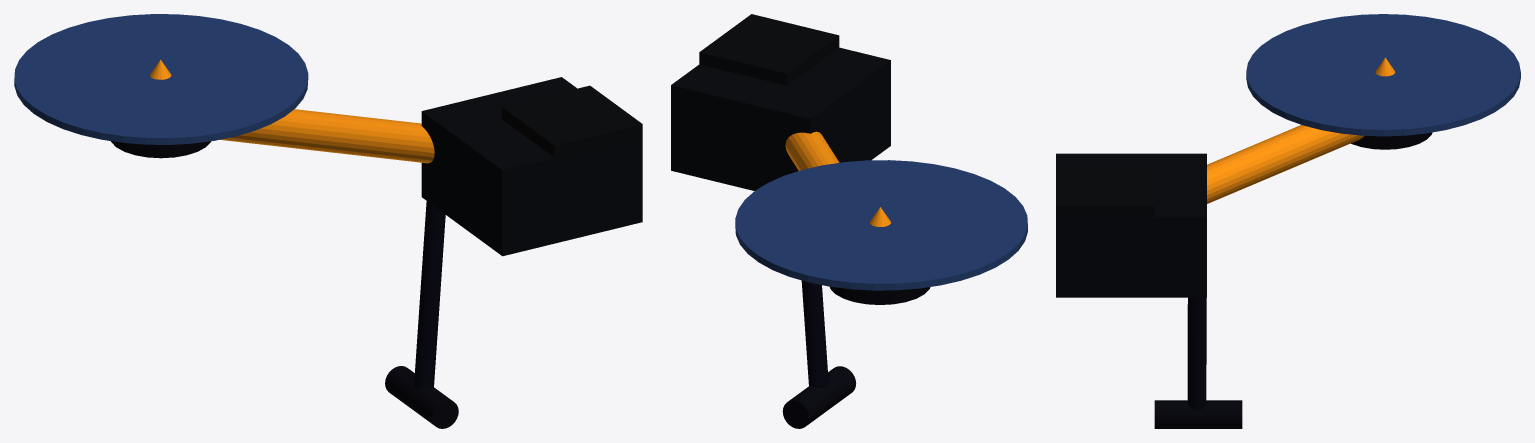
File: quad_quarter.obj
3 views of the same model, side by side, from view 1: azimuth 30°, elevation 25°; view 2: azimuth 150°, elevation 25°; view 3: azimuth 270°, elevation 25° (orthographic). The views are drawn at different scales.
Parts seen in each view (by area): view 1: Prop, Body, Arm, Body_Top, Leg, Foot, Motor; view 2: Prop, Body, Body_Top, Foot, Leg, Arm, Motor; view 3: Prop, Body, Body_Top, Arm, Foot, Leg, Motor.
Part boxes in pixels (x1,y1,x2,y2): Prop: [14, 14, 308, 144]; Body: [421, 77, 642, 256]; Arm: [220, 109, 434, 163]; Body_Top: [502, 85, 642, 160]; Leg: [414, 201, 445, 388]; Foot: [385, 366, 458, 428]; Motor: [111, 141, 210, 158]; Prop: [735, 160, 1027, 290]; Body: [671, 47, 890, 190]; Body_Top: [699, 14, 839, 85]; Foot: [782, 366, 856, 428]; Leg: [801, 280, 828, 387]; Arm: [785, 131, 839, 170]; Motor: [830, 286, 930, 304]; Prop: [1246, 14, 1520, 136]; Body: [1056, 153, 1206, 297]; Body_Top: [1056, 166, 1154, 220]; Arm: [1207, 125, 1364, 203]; Foot: [1154, 400, 1242, 428]; Leg: [1187, 297, 1206, 410]; Motor: [1351, 132, 1432, 149].
Size of the model in its own units: 0.3333 by 0.2338 by 0.3316.
